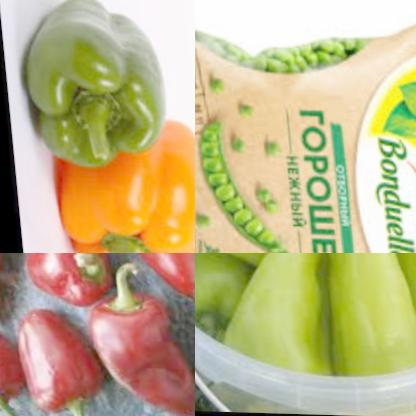bell pepper: (14, 0, 169, 172), (45, 112, 195, 253), (70, 280, 195, 416), (203, 253, 338, 372), (307, 253, 416, 383), (7, 299, 100, 416), (0, 253, 112, 308), (195, 253, 258, 330), (103, 253, 195, 303)
peas: (200, 21, 358, 82), (202, 123, 276, 253), (228, 89, 284, 138), (202, 66, 239, 101), (254, 126, 287, 156), (250, 182, 282, 212), (195, 204, 214, 244), (226, 132, 243, 155), (195, 137, 207, 160)
